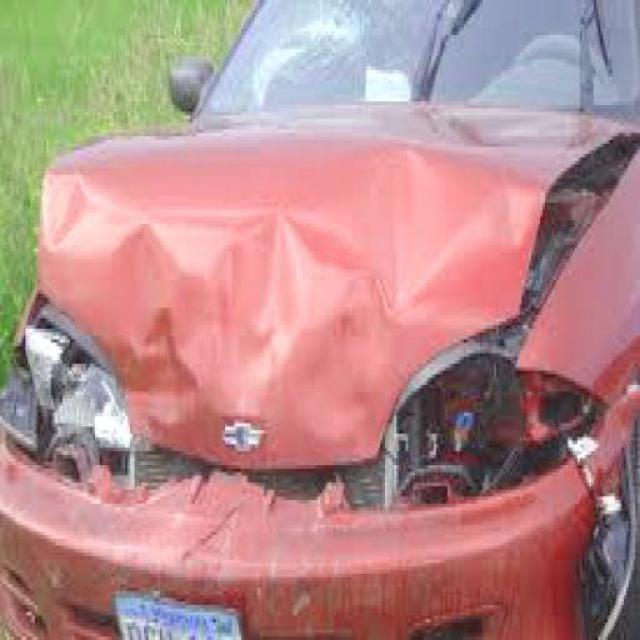car damage: (1, 164, 608, 543)
